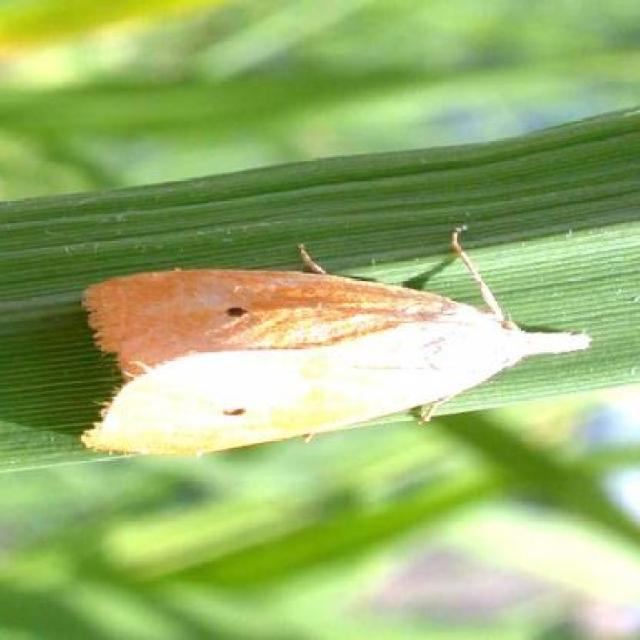stem-borer: (75, 239, 591, 461)
